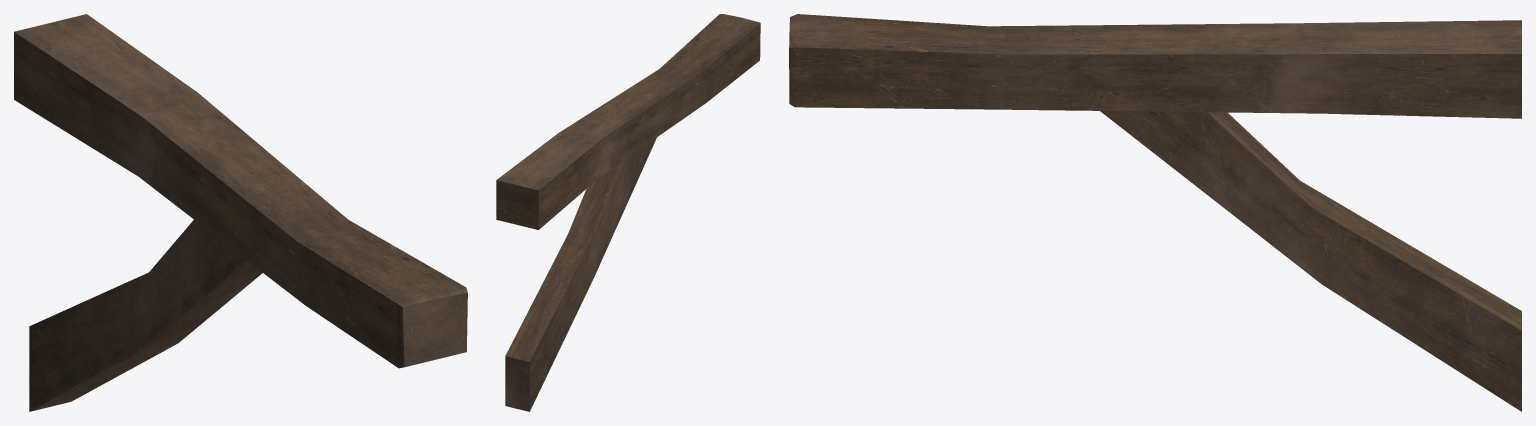
The model's file is SM_Scaffolding_06.fbx.
3 views of the same model, side by side, from view 1: azimuth 30°, elevation 25°; view 2: azimuth 150°, elevation 25°; view 3: azimuth 270°, elevation 25° (orthographic). The views are drawn at different scales.
Visible parts, largest first — view 1: SM_Scaffolding_06_LOD0; view 2: SM_Scaffolding_06_LOD0; view 3: SM_Scaffolding_06_LOD0.
Boxes of the visible parts, box(x1,y1,x2,y2) form: SM_Scaffolding_06_LOD0: box(14, 14, 467, 411); SM_Scaffolding_06_LOD0: box(496, 14, 760, 411); SM_Scaffolding_06_LOD0: box(789, 14, 1521, 411).
Size of what is drawn, in the model's own units: 30.42 by 152 by 272.
